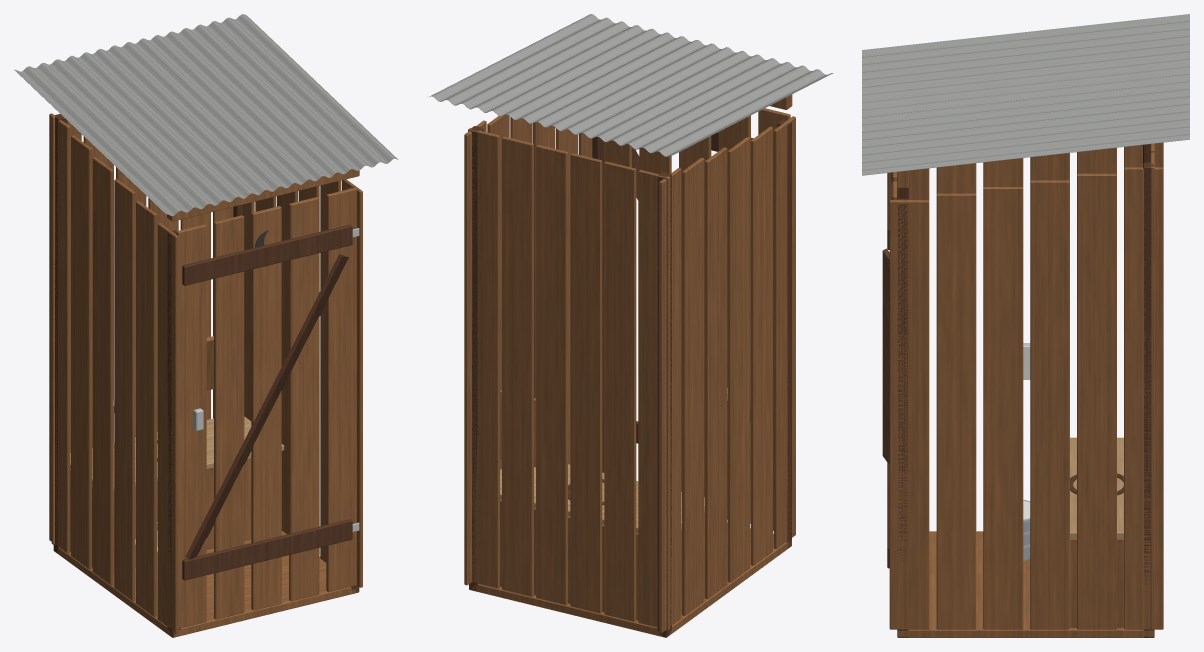
File: latrina.glb
The picture shows the model from 3 angles, left to right: view 1: azimuth 30°, elevation 25°; view 2: azimuth 150°, elevation 25°; view 3: azimuth 270°, elevation 25°; orthographic projection. The views are drawn at different scales.
Visible parts, largest first — view 1: latrina_madeira, latrina_porta_madeira, latrina_telha_ondulada, latrina_porta_madeira_escura, latrina_madeira_escura, latrina_madeira_crua; view 2: latrina_madeira, latrina_telha_ondulada, latrina_madeira_escura, latrina_porta_madeira, latrina_madeira_crua; view 3: latrina_madeira, latrina_telha_ondulada, latrina_madeira_escura, latrina_porta_madeira_escura, latrina_madeira_crua.
Boxes of the visible parts, box(x1,y1,x2,y2) form: latrina_madeira: box(49, 113, 362, 637); latrina_porta_madeira: box(176, 187, 356, 628); latrina_telha_ondulada: box(14, 14, 398, 216); latrina_porta_madeira_escura: box(182, 224, 352, 580); latrina_madeira_escura: box(53, 114, 359, 637); latrina_madeira_crua: box(70, 416, 284, 491); latrina_madeira: box(464, 94, 795, 637); latrina_telha_ondulada: box(429, 14, 833, 156); latrina_madeira_escura: box(469, 119, 791, 637); latrina_porta_madeira: box(603, 108, 790, 530); latrina_madeira_crua: box(500, 464, 704, 533); latrina_madeira: box(889, 142, 1163, 637); latrina_telha_ondulada: box(862, 14, 1189, 175); latrina_madeira_escura: box(897, 144, 1154, 637); latrina_porta_madeira_escura: box(882, 172, 892, 568); latrina_madeira_crua: box(1070, 437, 1123, 538).
Size of the model in its own units: 1.24 by 2.42 by 1.4.
10 materials, 3 textured.
